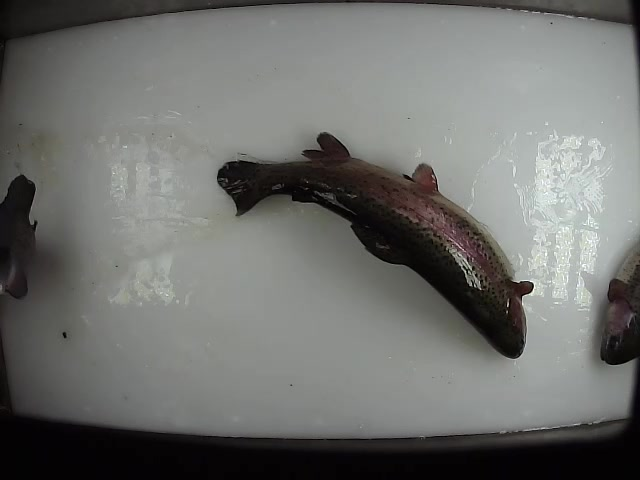fish: (216, 131, 536, 364)
